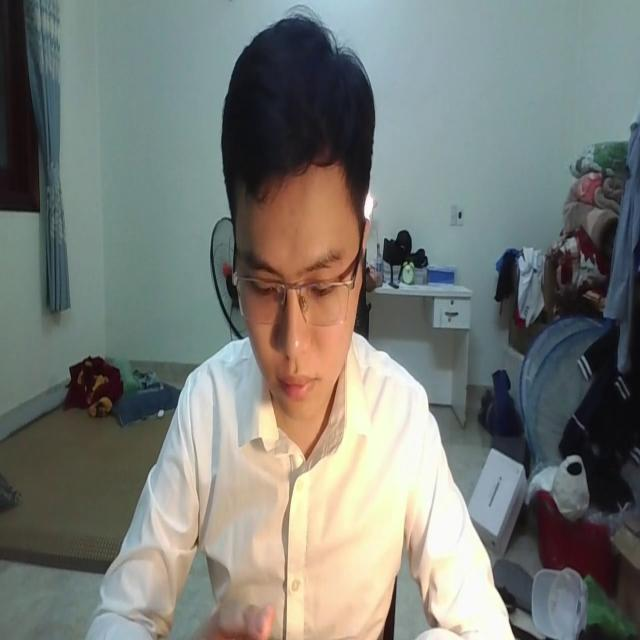student: (83, 8, 513, 640)
